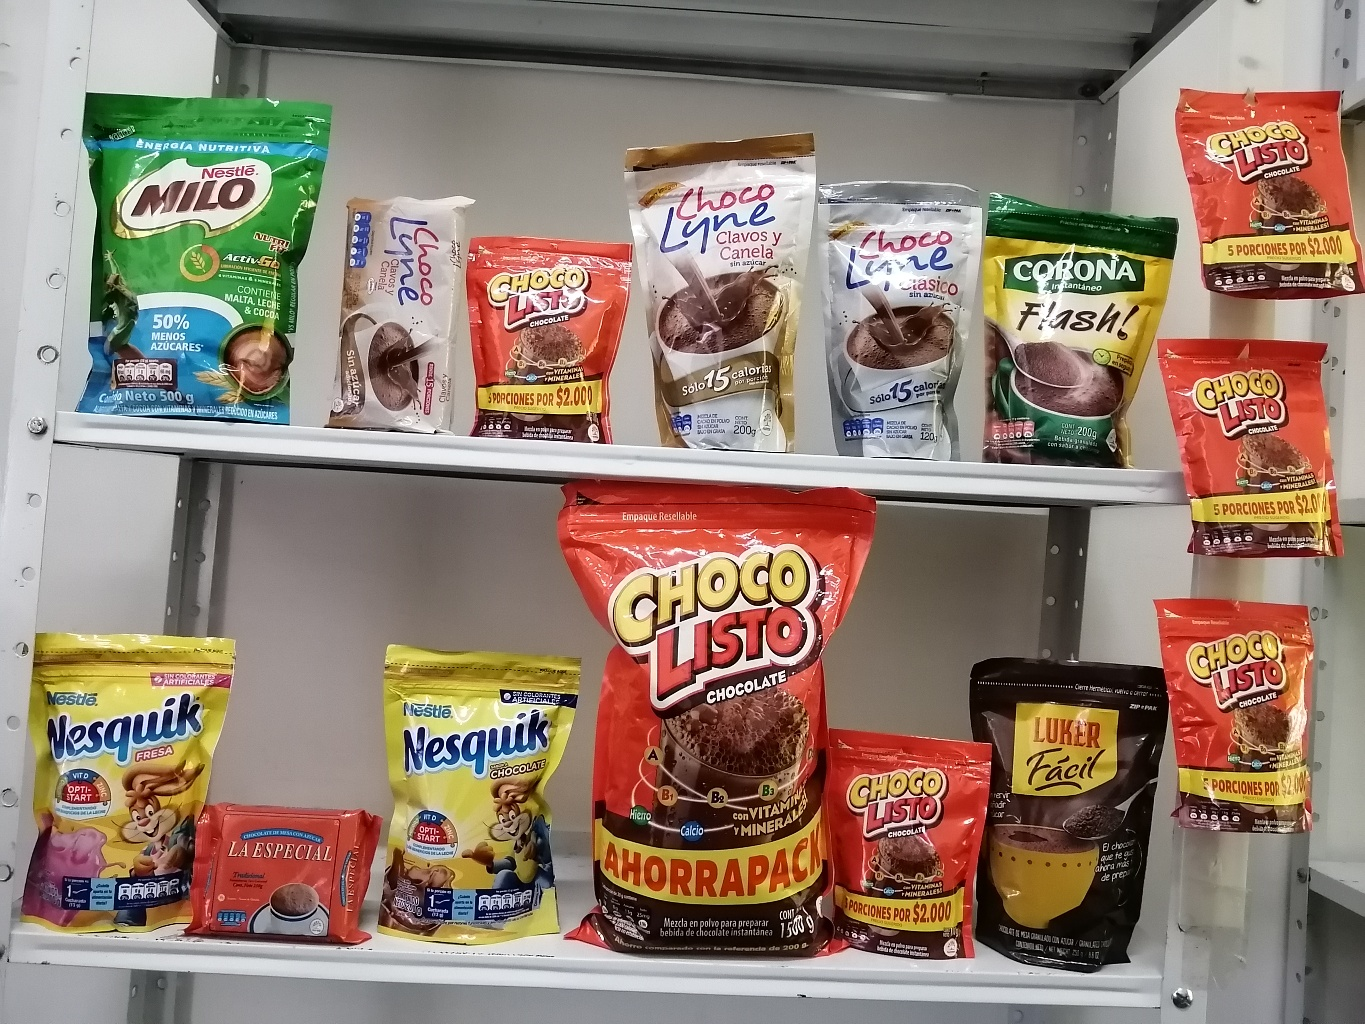COL0170103DYP1,500: (561, 477, 876, 959)
COL0170205DYP50000: (82, 88, 340, 438)
COL0170303DYP20000: (383, 634, 578, 945)
COL0170305DYP20000: (22, 627, 228, 929)
